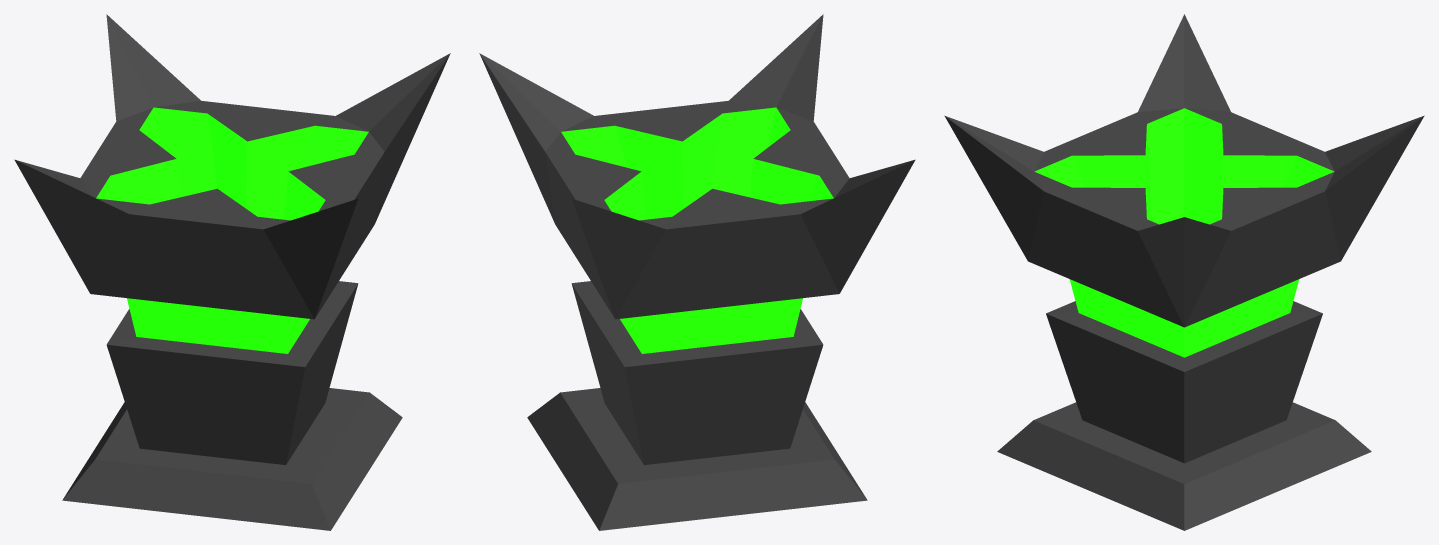
The model's file is EdgeFirewall.fbx.
3 renders of one model, left to right at view 1: azimuth 30°, elevation 25°; view 2: azimuth 150°, elevation 25°; view 3: azimuth 270°, elevation 25°, orthographic. The views are drawn at different scales.
Parts seen in each view (by area): view 1: EdgeFirewall; view 2: EdgeFirewall; view 3: EdgeFirewall.
Boxes of the visible parts, left/top/right/bottom form: EdgeFirewall: left=14, top=14, right=450, bottom=530; EdgeFirewall: left=479, top=14, right=915, bottom=530; EdgeFirewall: left=944, top=14, right=1424, bottom=530.
Size of the model in its own units: 579 by 447 by 579.
